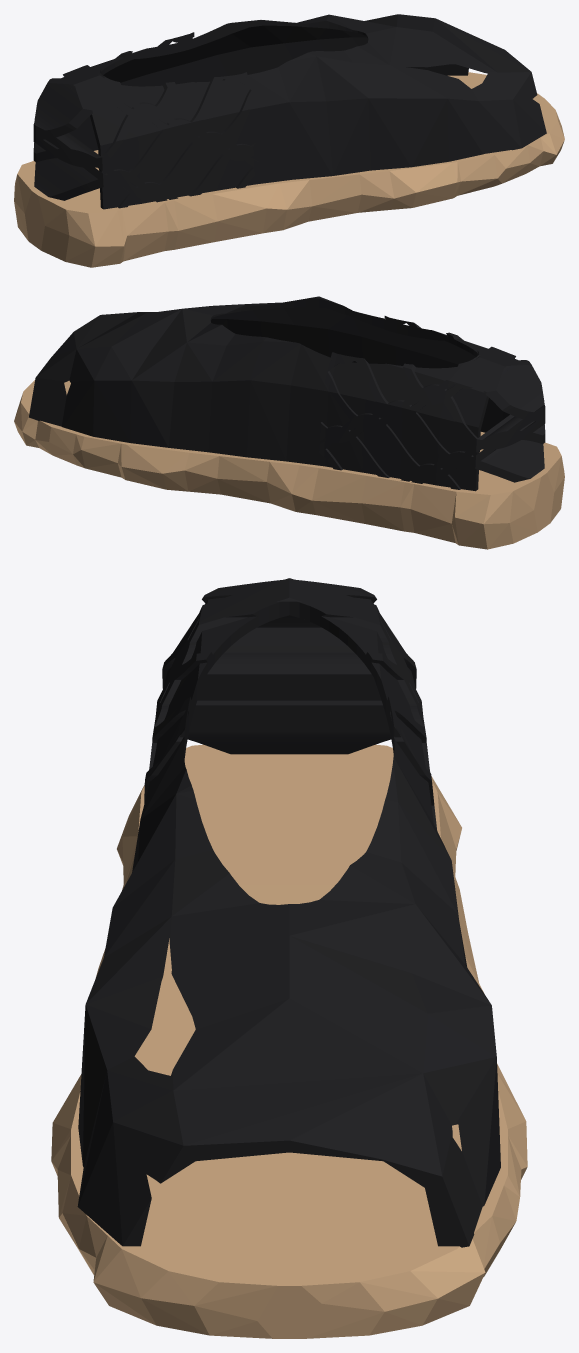
File: facet-melt.glb
3 renders of one model, top to bottom at view 1: azimuth 30°, elevation 25°; view 2: azimuth 150°, elevation 25°; view 3: azimuth 270°, elevation 25°, orthographic. The views are drawn at different scales.
Parts seen in each view (by area): view 1: facet-melt_upper, facet-melt_sole; view 2: facet-melt_upper, facet-melt_sole; view 3: facet-melt_upper, facet-melt_sole.
Part boxes in pixels (x1=…): facet-melt_upper: x1=33, y1=14, x2=546, y2=209; facet-melt_sole: x1=14, y1=72, x2=564, y2=267; facet-melt_upper: x1=29, y1=296, x2=545, y2=491; facet-melt_sole: x1=14, y1=380, x2=564, y2=549; facet-melt_upper: x1=77, y1=578, x2=500, y2=1247; facet-melt_sole: x1=51, y1=744, x2=527, y2=1338.
Bounding box in the file's own units: 0.3 × 0.0877 × 0.1222.
